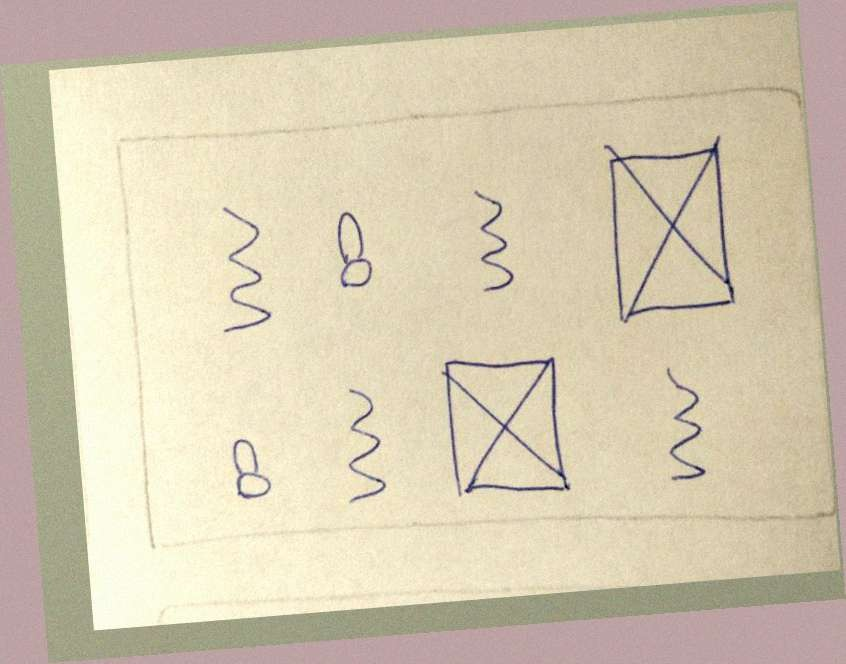image: (587, 135, 742, 329), (425, 340, 583, 511)
switch: (319, 195, 390, 300), (213, 420, 283, 508)
text: (190, 192, 300, 347), (643, 354, 722, 491), (450, 172, 528, 305), (320, 378, 398, 504)
